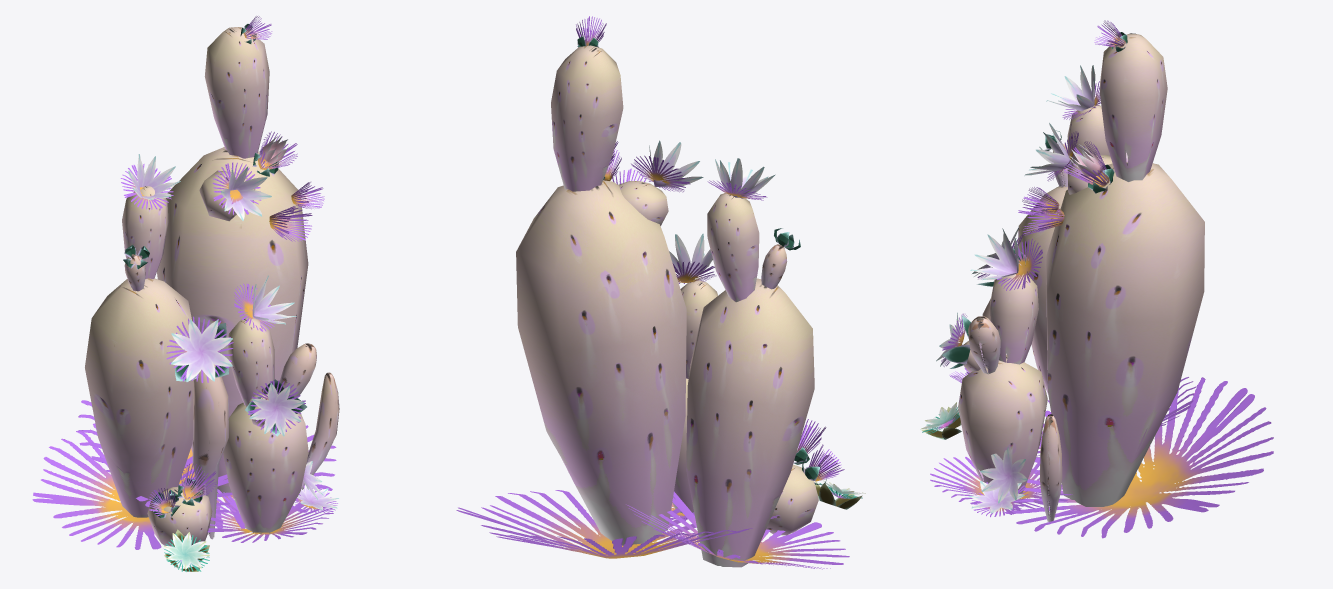
3 views of the same model, side by side, from view 1: azimuth 30°, elevation 25°; view 2: azimuth 150°, elevation 25°; view 3: azimuth 270°, elevation 25° (orthographic). The views are drawn at different scales.
Visible parts, largest first — view 1: B02; view 2: B02; view 3: B02.
Boxes of the visible parts, left/top/right/bottom form: B02: left=32, top=16, right=339, bottom=571; B02: left=456, top=16, right=865, bottom=569; B02: left=920, top=20, right=1273, bottom=538.
Bounding box in the file's own units: 887 × 1122 × 808.
